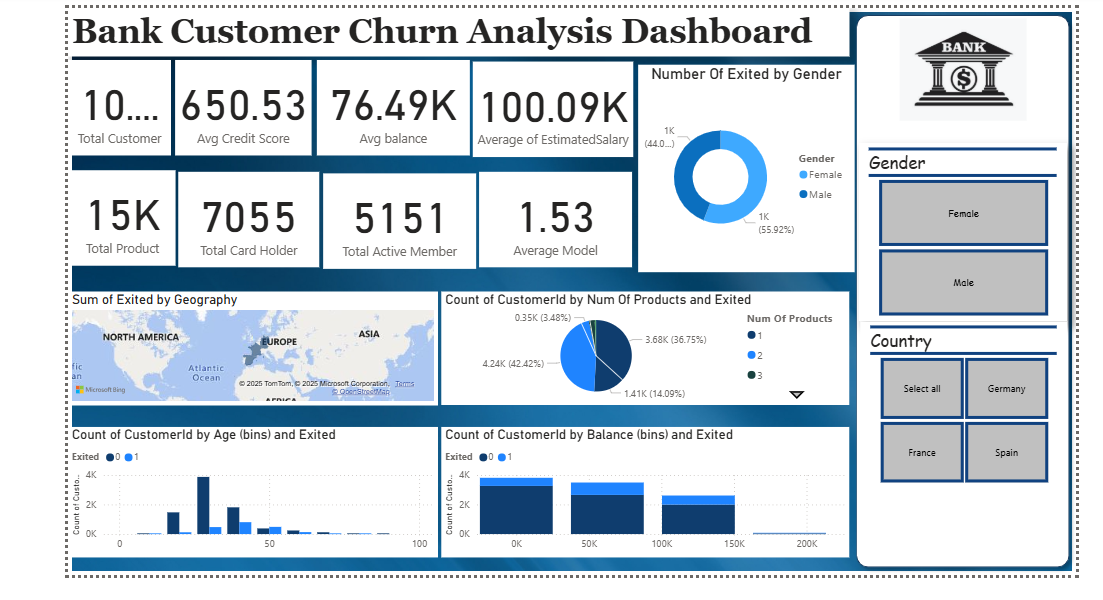

What the dashboard file says about the page in this screenshot:
{"tool":"powerbi","page":{"name":"Page 1","canvas":[1280,720],"ordinal":0},"visuals":[{"type":"image","box":[0,0,1280,720],"z":2},{"type":"textbox","box":[0,0,992.3,61.5],"z":502},{"type":"shape","box":[992.3,0,288.5,719.2],"z":503},{"type":"image","box":[1003.8,7.7,265.4,140.4],"z":504},{"type":"card","fields":{"Values":["CountNonNull(Churn_Modelling.CustomerId)"]},"box":[0,65.4,130.8,121.2],"z":505},{"type":"card","fields":{"Values":["Avg(Churn_Modelling.CreditScore)"]},"box":[136.5,65.4,173.1,121.1],"z":506},{"type":"card","fields":{"Values":["Avg(Churn_Modelling.Balance)"]},"box":[315.4,65.4,194.2,121.1],"z":507},{"type":"card","fields":{"Values":["Avg(Churn_Modelling.EstimatedSalary)"]},"box":[513.5,67.3,203.8,121.1],"z":508},{"type":"card","fields":{"Values":["Sum(Churn_Modelling.NumOfProducts)"]},"box":[1.9,205.9,134.6,121.2],"z":509},{"type":"card","fields":{"Values":["Sum(Churn_Modelling.HasCrCard)"]},"box":[140.4,207.8,178.8,121.1],"z":510},{"type":"card","fields":{"Values":["Sum(Churn_Modelling.IsActiveMember)"]},"box":[323.1,209.8,194.2,121.1],"z":511},{"type":"slicer","title":"Gender","fields":{"Values":["Churn_Modelling.Gender"]},"box":[1003.9,172.5,264.7,225.5],"z":512},{"type":"slicer","fields":{"Values":["Churn_Modelling.Geography"]},"box":[1005.9,398,262.7,211.8],"z":513},{"type":"card","fields":{"Values":["Avg(Churn_Modelling.NumOfProducts)"]},"box":[521.2,207.8,194.2,121.1],"z":514},{"type":"donutChart","fields":{"Category":["Churn_Modelling.Gender"],"Y":["Sum(Churn_Modelling.Exited)"]},"box":[723.1,71.2,275,263.4],"z":515},{"type":"filledMap","fields":{"Category":["Churn_Modelling.Geography"]},"box":[0,360,470,144],"z":516},{"type":"clusteredColumnChart","fields":{"Category":["Churn_Modelling.Age (bins)"],"Series":["Churn_Modelling.Exited"],"Y":["CountNonNull(Churn_Modelling.CustomerId)"]},"box":[0,532,470,166],"z":517},{"type":"pieChart","fields":{"Category":["Churn_Modelling.NumOfProducts"],"Y":["CountNonNull(Churn_Modelling.CustomerId)"],"Series":["Churn_Modelling.Exited"]},"box":[474,360,518,144],"z":518},{"type":"columnChart","fields":{"Category":["Churn_Modelling.Balance (bins)"],"Y":["CountNonNull(Churn_Modelling.CustomerId)"],"Series":["Churn_Modelling.Exited"]},"box":[474,532,518,166],"z":519}]}

Visuals, with their boxes on the page's 1280x720 design canvas (x1, y1, x2, y2). These are canvas units, not pixel positions in the 1103x600 screenshot, which may show the page scaled, cropped or inside an application window:
image: x1=0 y1=0 x2=1280 y2=720
textbox: x1=0 y1=0 x2=992 y2=62
shape: x1=992 y1=0 x2=1281 y2=719
image: x1=1004 y1=8 x2=1269 y2=148
card - CountNonNull(Churn_Modelling.CustomerId): x1=0 y1=65 x2=131 y2=187
card - Avg(Churn_Modelling.CreditScore): x1=136 y1=65 x2=310 y2=186
card - Avg(Churn_Modelling.Balance): x1=315 y1=65 x2=510 y2=186
card - Avg(Churn_Modelling.EstimatedSalary): x1=514 y1=67 x2=717 y2=188
card - Sum(Churn_Modelling.NumOfProducts): x1=2 y1=206 x2=136 y2=327
card - Sum(Churn_Modelling.HasCrCard): x1=140 y1=208 x2=319 y2=329
card - Sum(Churn_Modelling.IsActiveMember): x1=323 y1=210 x2=517 y2=331
"Gender" slicer: x1=1004 y1=172 x2=1269 y2=398
slicer - Churn_Modelling.Geography: x1=1006 y1=398 x2=1269 y2=610
card - Avg(Churn_Modelling.NumOfProducts): x1=521 y1=208 x2=715 y2=329
donutChart - Churn_Modelling.Gender x Sum(Churn_Modelling.Exited): x1=723 y1=71 x2=998 y2=335
filledMap - Churn_Modelling.Geography: x1=0 y1=360 x2=470 y2=504
clusteredColumnChart - Churn_Modelling.Age (bins) x Churn_Modelling.Exited: x1=0 y1=532 x2=470 y2=698
pieChart - Churn_Modelling.NumOfProducts x CountNonNull(Churn_Modelling.CustomerId): x1=474 y1=360 x2=992 y2=504
columnChart - Churn_Modelling.Balance (bins) x CountNonNull(Churn_Modelling.CustomerId): x1=474 y1=532 x2=992 y2=698
